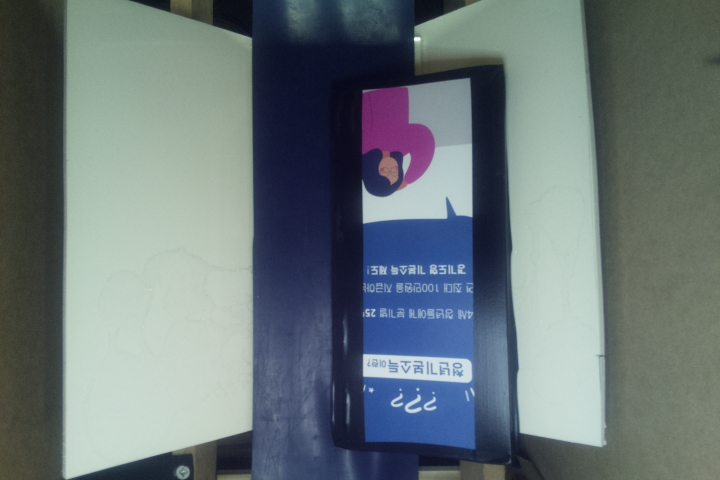book: (329, 62, 518, 463)
